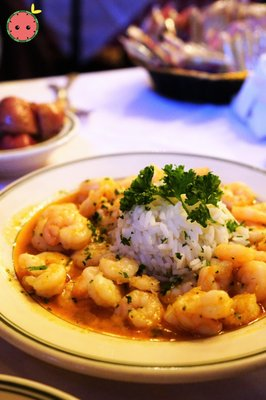curry: (119, 163, 223, 228)
sushi: (1, 149, 266, 393), (117, 1, 258, 105), (0, 90, 79, 180)
